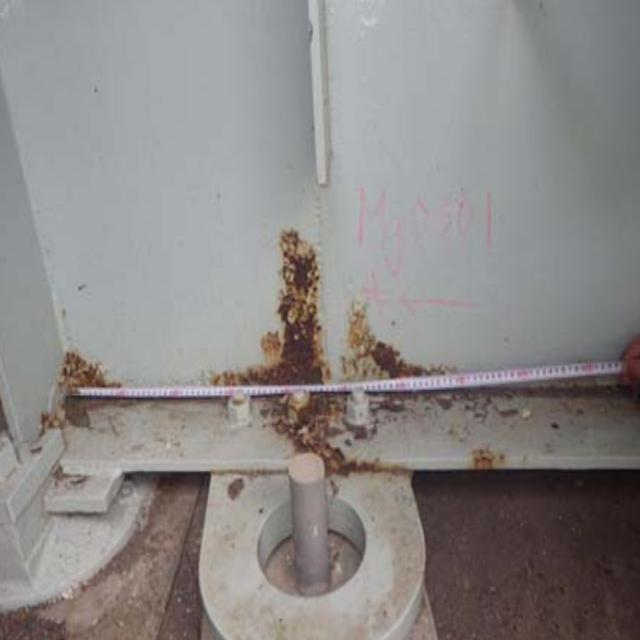corrosion: (216, 214, 420, 480), (39, 330, 127, 431)
